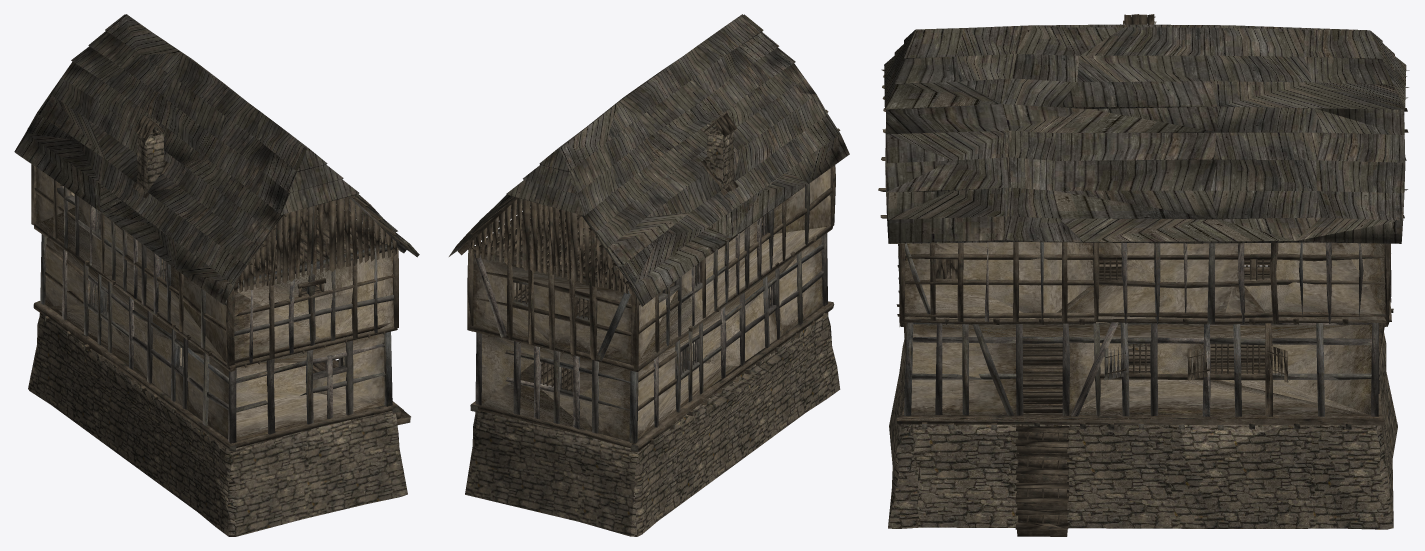
Rendered from eng_house_1.glb.
3 renders of one model, left to right at view 1: azimuth 30°, elevation 25°; view 2: azimuth 150°, elevation 25°; view 3: azimuth 270°, elevation 25°, orthographic. The views are drawn at different scales.
Visible parts, largest first — view 1: eng_house_1; view 2: eng_house_1; view 3: eng_house_1.
Boxes of the visible parts, x1=… form: eng_house_1: x1=14, y1=14, x2=419, y2=536; eng_house_1: x1=449, y1=14, x2=849, y2=536; eng_house_1: x1=878, y1=14, x2=1409, y2=536.
Size of the model in its own units: 8.99 by 12.85 by 13.74.
Materials: 6 (6 with a texture image).
